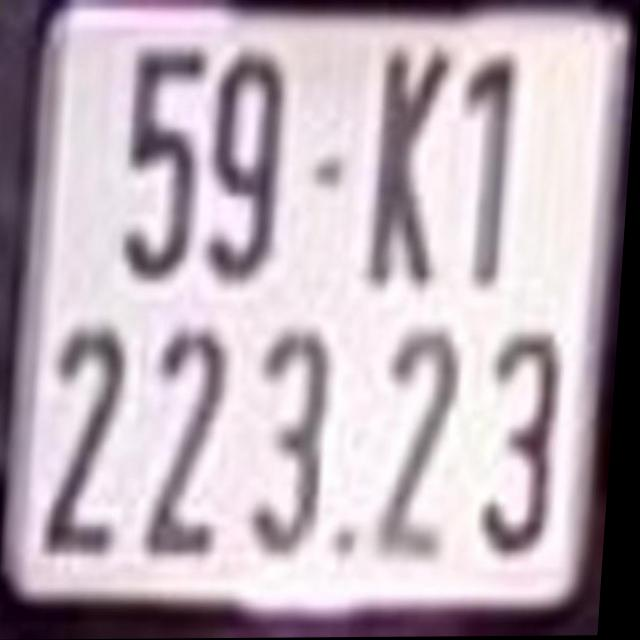1: (456, 49, 518, 283)
2: (51, 328, 130, 554), (156, 323, 233, 550), (385, 323, 460, 555)
3: (257, 325, 339, 561), (491, 329, 561, 554)
5: (124, 41, 208, 284)
9: (210, 50, 284, 273)
K: (371, 48, 454, 284)
